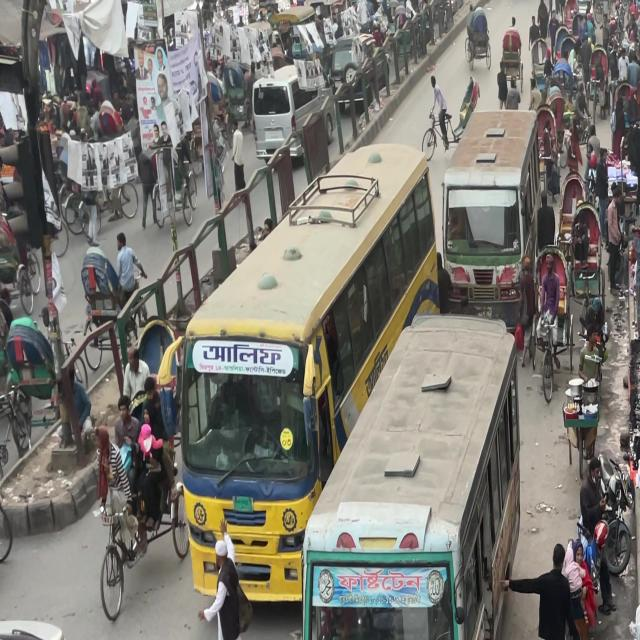bicycle: (100, 504, 165, 623)
bus: (166, 141, 447, 600), (302, 297, 519, 640), (439, 126, 527, 314)
car: (0, 612, 79, 640)
